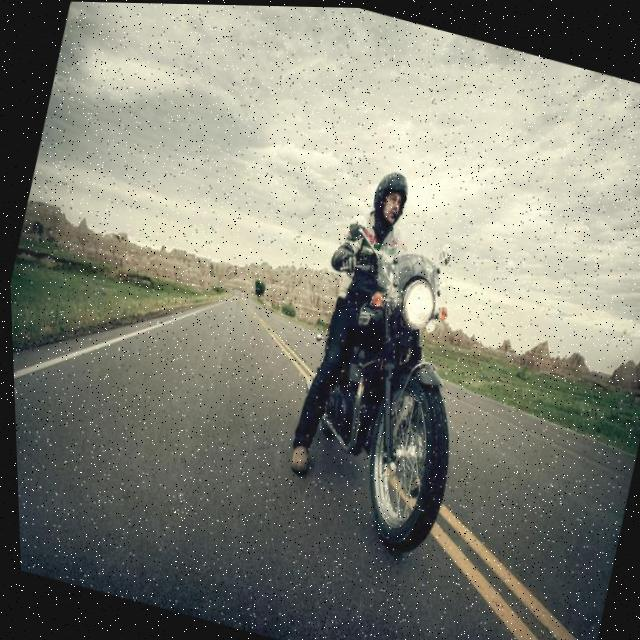motorcycle: (275, 222, 515, 567)
